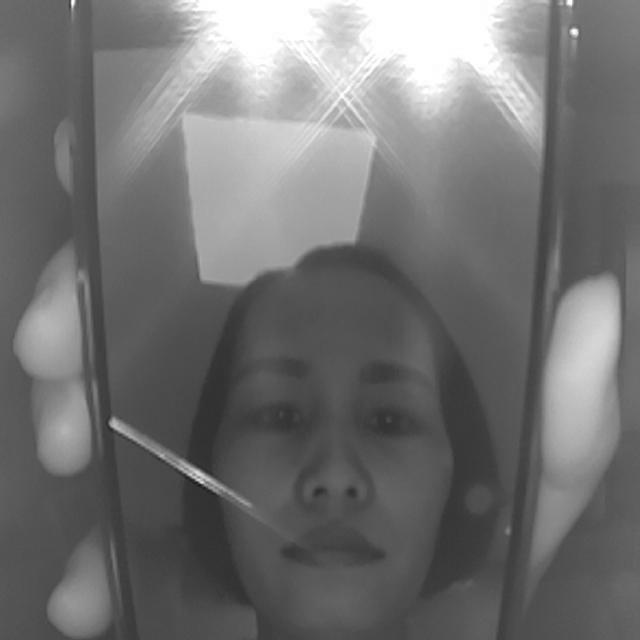fake: (63, 10, 573, 638)
